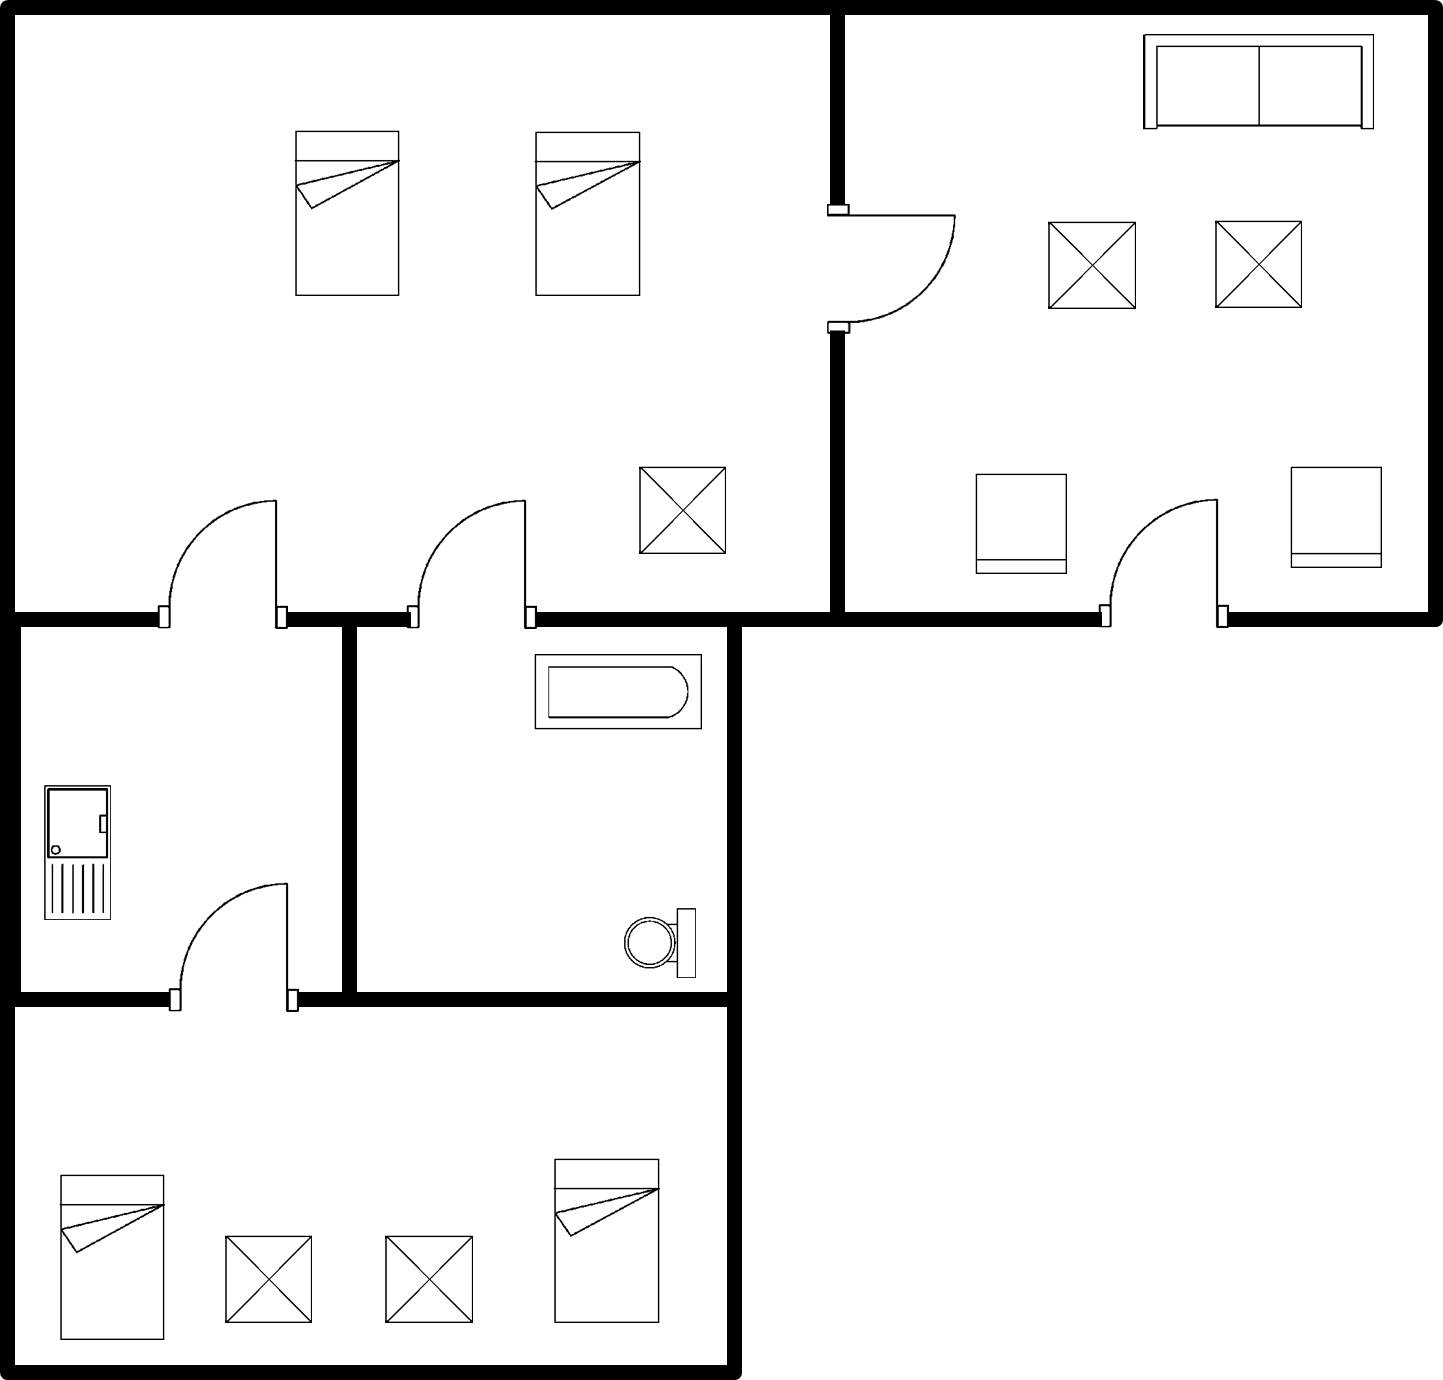bed: (44, 1164, 178, 1347), (282, 122, 411, 310), (542, 1147, 669, 1338), (524, 122, 652, 311)
coffee_table: (373, 1224, 481, 1338), (1205, 211, 1313, 322), (212, 1228, 321, 1337), (628, 454, 735, 564), (1038, 214, 1148, 320)
large_sink: (605, 895, 705, 985)
large_sofa: (1130, 24, 1382, 146)
sink: (35, 772, 124, 931)
small_sofa: (963, 464, 1078, 584), (1281, 460, 1392, 581)
tub: (521, 643, 713, 742)
